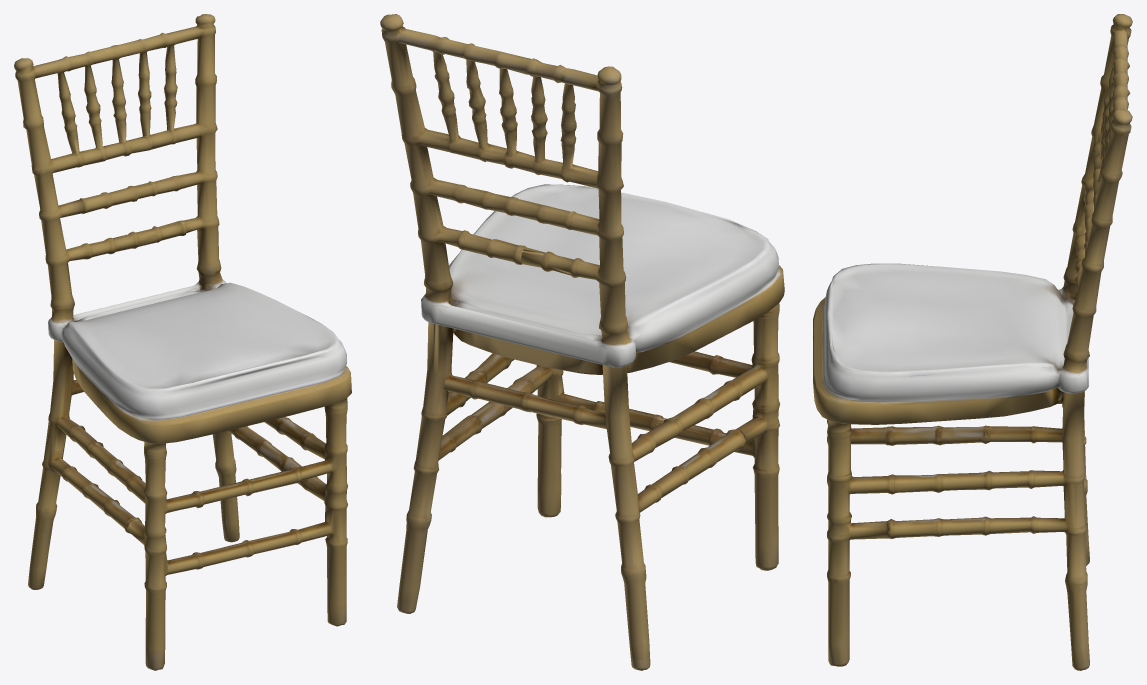
The model's file is Golden_Chiavari_Chair_withCushion_36InchesTall_0218210001_texture.glb.
3 renders of one model, left to right at view 1: azimuth 30°, elevation 25°; view 2: azimuth 150°, elevation 25°; view 3: azimuth 270°, elevation 25°, orthographic. The views are drawn at different scales.
Visible parts, largest first — view 1: Mesh_0; view 2: Mesh_0; view 3: Mesh_0.
Boxes of the visible parts, x1,y1,x2,y2 form: Mesh_0: (14,14,351,670); Mesh_0: (380,14,784,670); Mesh_0: (813,14,1132,670).
Size of the model in its own units: 0.4074 by 0.9144 by 0.4769.
Materials: 1 (1 with a texture image).
